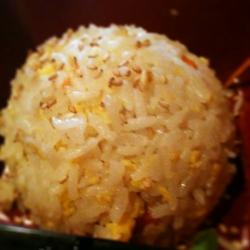rice: (32, 57, 176, 210)
